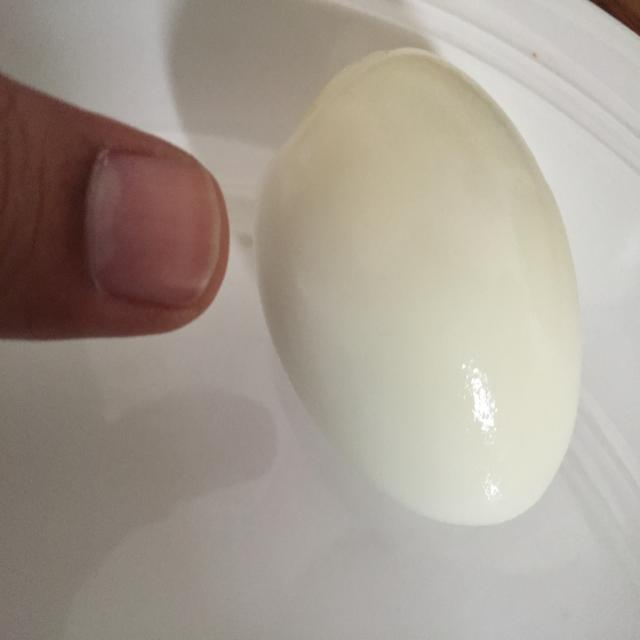Egg: (243, 40, 606, 540)
Finger: (1, 76, 232, 355)
